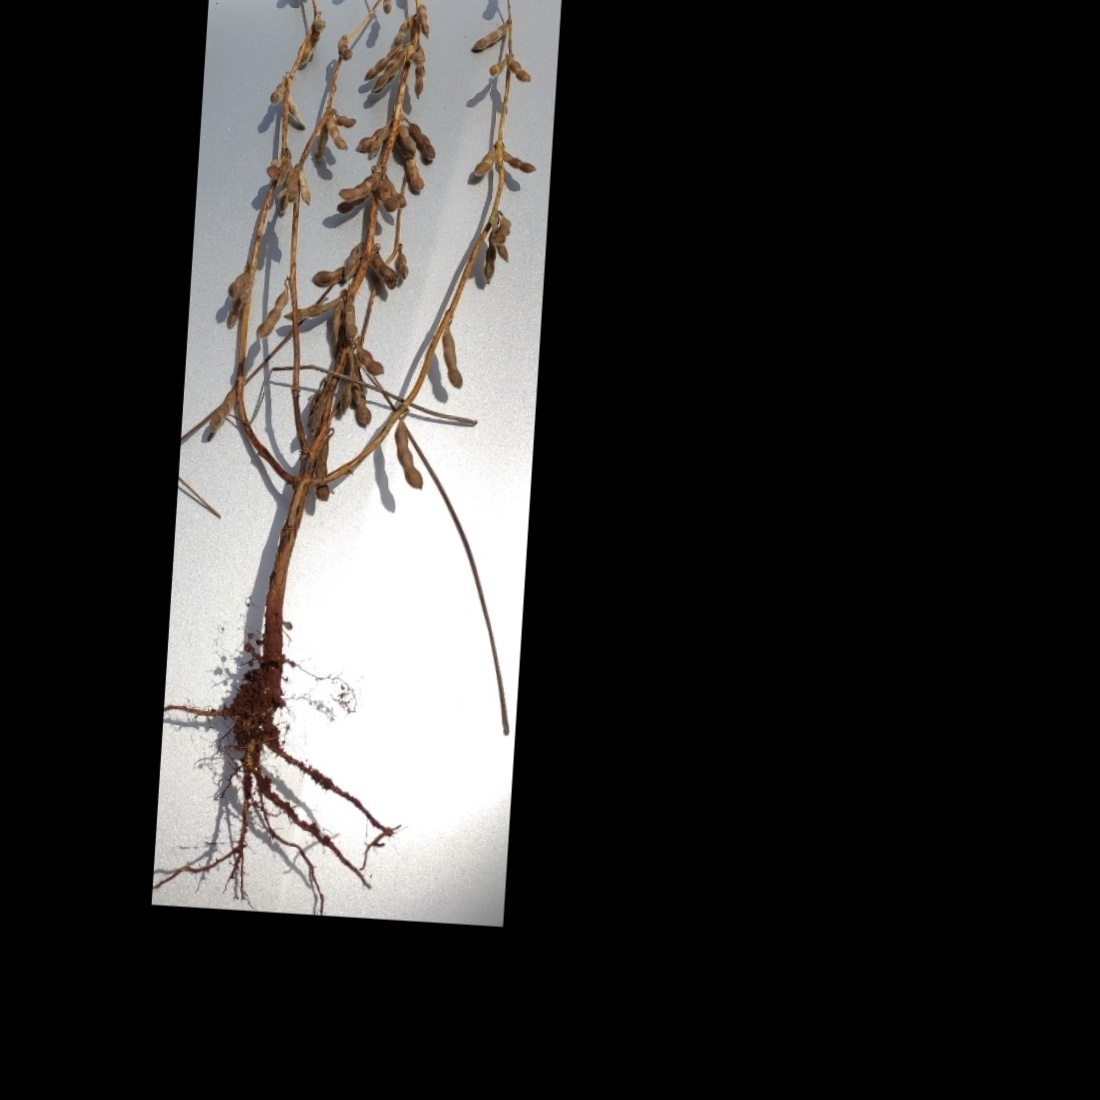pod: (388, 421, 431, 495), (436, 326, 472, 393), (252, 282, 290, 341), (464, 17, 508, 58), (403, 116, 440, 162), (369, 50, 405, 98), (205, 382, 237, 435), (363, 247, 401, 282), (348, 341, 386, 377), (500, 146, 543, 176), (323, 111, 353, 154), (506, 53, 539, 89), (220, 263, 248, 299), (394, 0, 415, 3)
soy: (177, 0, 564, 870)
